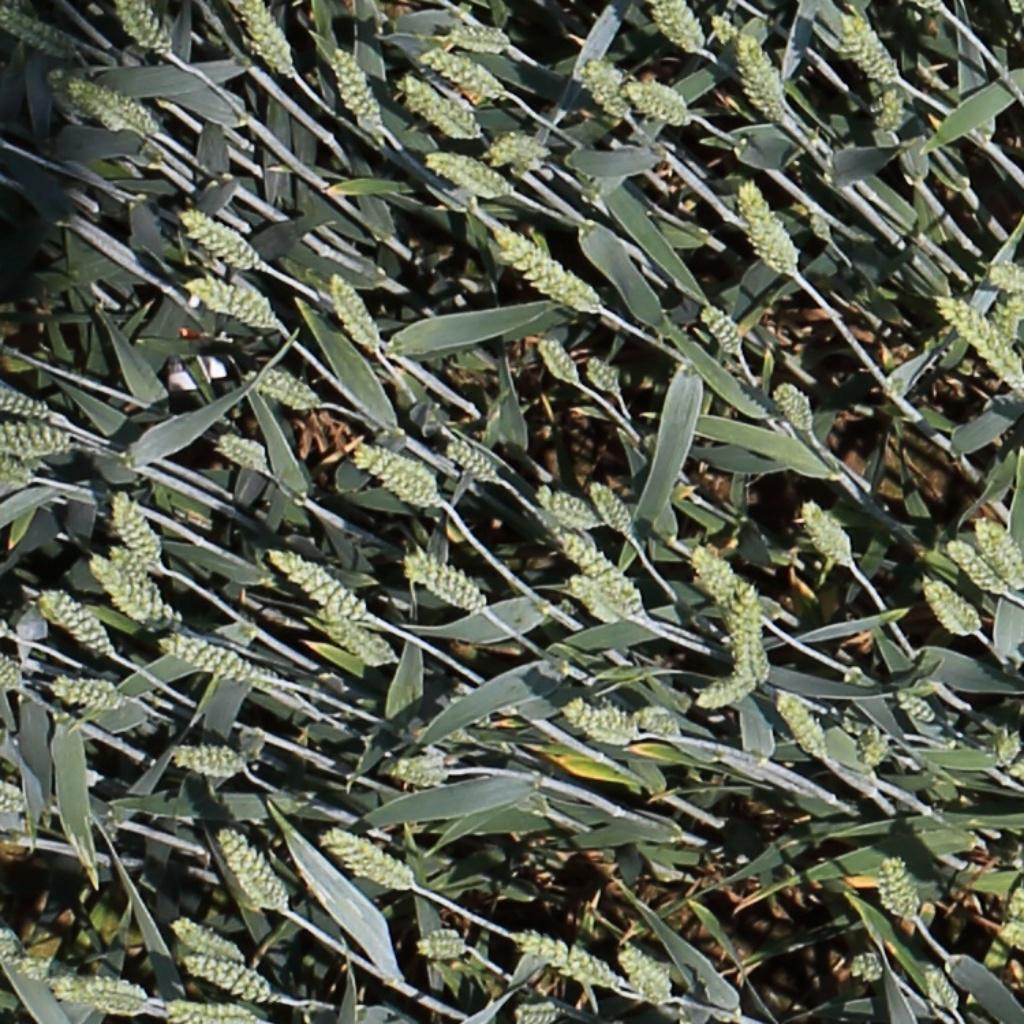0-0: (488, 223, 609, 315), (555, 524, 653, 621), (934, 295, 1024, 398), (85, 552, 187, 637), (266, 545, 376, 622), (217, 824, 295, 919), (511, 927, 623, 993), (720, 24, 791, 122), (320, 825, 418, 892), (687, 543, 769, 623), (737, 175, 799, 280), (323, 42, 388, 141), (395, 73, 487, 142), (348, 445, 443, 511), (176, 207, 267, 274), (228, 3, 305, 82), (398, 551, 491, 616), (37, 588, 119, 661), (66, 76, 161, 138), (181, 278, 284, 334), (416, 46, 516, 103), (828, 8, 902, 85), (158, 636, 261, 685), (47, 975, 157, 1020), (180, 953, 276, 1004), (794, 495, 856, 573), (727, 583, 773, 687), (319, 609, 399, 668), (424, 150, 518, 200), (328, 272, 384, 354), (861, 78, 928, 146), (167, 912, 249, 967), (776, 689, 832, 765), (972, 513, 1024, 591), (943, 537, 1008, 599), (110, 492, 165, 564), (918, 577, 983, 636), (562, 697, 640, 746), (1, 8, 75, 58), (617, 946, 674, 1010), (532, 484, 608, 532), (241, 371, 326, 411), (629, 77, 697, 127), (110, 1, 170, 57), (574, 66, 636, 120), (875, 852, 923, 921), (564, 574, 626, 627), (0, 420, 78, 462), (849, 717, 899, 782), (51, 674, 129, 714), (694, 297, 745, 357), (768, 376, 816, 438), (531, 331, 581, 390), (976, 715, 1022, 778), (380, 750, 453, 789), (442, 441, 505, 486), (651, 1, 703, 55), (172, 745, 254, 779), (15, 947, 77, 991), (162, 998, 267, 1023), (485, 134, 555, 171), (800, 199, 847, 254), (692, 673, 760, 711), (588, 480, 635, 533), (211, 429, 270, 470), (920, 964, 965, 1015), (978, 252, 1024, 297), (580, 352, 623, 400), (0, 389, 56, 425), (416, 929, 471, 965), (992, 290, 1024, 348), (847, 943, 888, 986), (512, 988, 564, 1021), (636, 706, 684, 740), (896, 691, 941, 726), (106, 544, 146, 583), (0, 457, 38, 493), (442, 30, 507, 49), (1, 653, 31, 692), (0, 928, 30, 965), (997, 917, 1024, 955), (0, 778, 30, 811), (1006, 760, 1024, 778)
